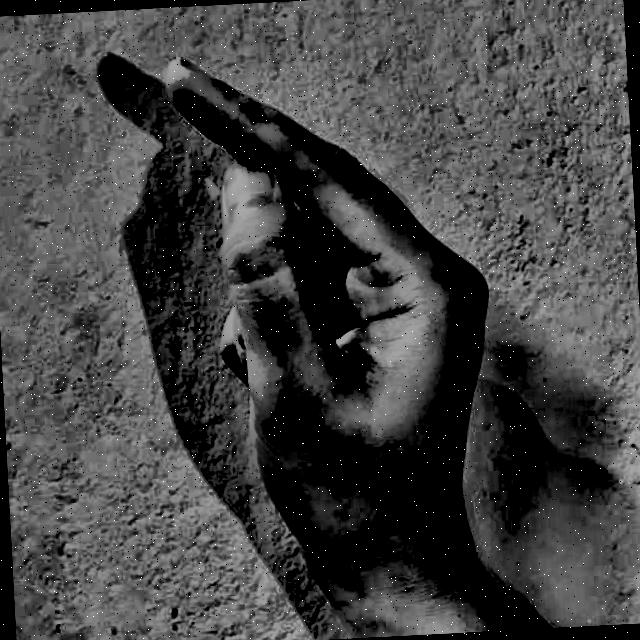Tha: (138, 20, 568, 640)
